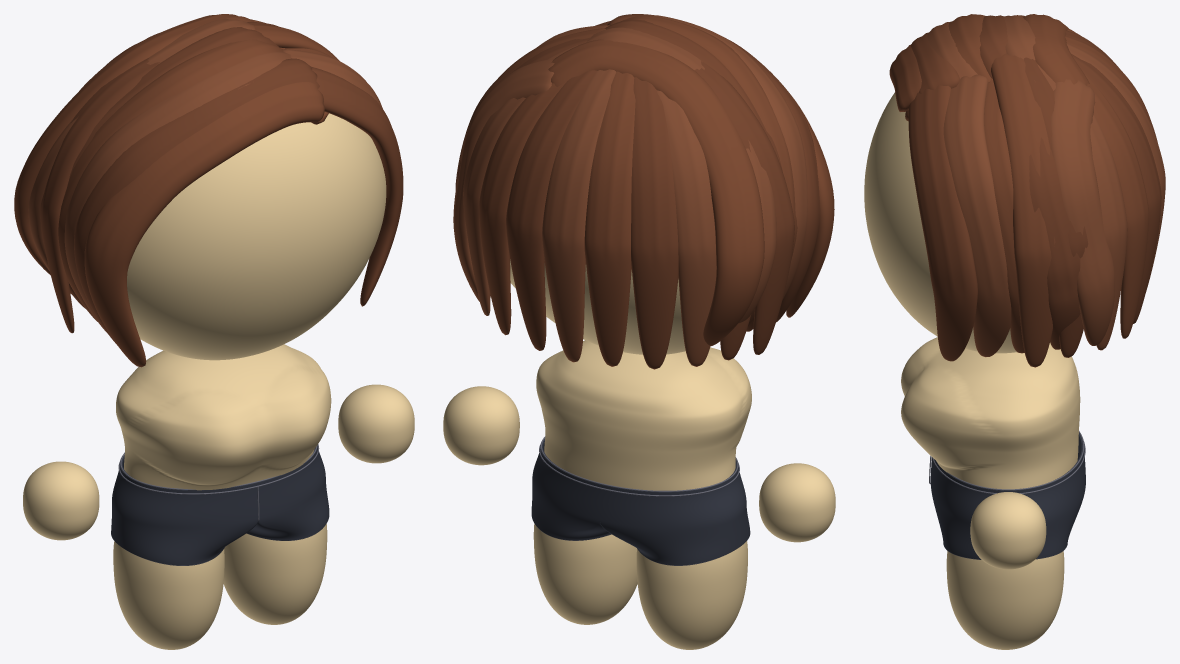
Rendered from Feminine-base.glb.
The picture shows the model from 3 angles, left to right: view 1: azimuth 30°, elevation 25°; view 2: azimuth 150°, elevation 25°; view 3: azimuth 270°, elevation 25°; orthographic projection.
Visible parts, largest first — view 1: Skin / soft oval head, Skin / rounded torso, Hair / Bob / side sweep 0, Clothing / fixed shorts, Skin / leg blob -1, Skin / leg blob 1, Hair / Bob / side sweep 1, Hair / Bob / side sweep 2, Hair / Bob / side sweep 7, Hair / Bob / side sweep 3, Hair / Bob / side sweep 22, Hair / Bob / side sweep 6 (+6 smaller); view 2: Skin / rounded torso, Hair / Bob / side sweep 6, Clothing / fixed shorts, Hair / Bob / side sweep 19, Hair / Bob / side sweep 18, Hair / Bob / side sweep 17, Hair / Bob / side sweep 16, Hair / Bob / side sweep 20, Skin / leg blob -1, Skin / leg blob 1, Hair / Bob / side sweep 15, Hair / Bob / side sweep 22 (+14 smaller); view 3: Skin / rounded torso, Hair / Bob / side sweep 7, Skin / soft oval head, Hair / Bob / side sweep 8, Hair / Bob / side sweep 12, Hair / Bob / side sweep 11, Skin / leg blob 1, Clothing / fixed shorts, Hair / Bob / side sweep 15, Hair / Bob / side sweep 10, Skin / orb hand 1, Hair / Bob / side sweep 9 (+12 smaller).
Boxes of the visible parts, box(x1,y1,x2,y2) form: Skin / soft oval head: box(127, 113, 386, 360); Skin / rounded torso: box(116, 344, 331, 490); Hair / Bob / side sweep 0: box(84, 82, 328, 367); Clothing / fixed shorts: box(111, 444, 329, 565); Skin / leg blob -1: box(113, 541, 224, 649); Skin / leg blob 1: box(223, 524, 327, 624); Hair / Bob / side sweep 1: box(74, 58, 319, 345); Hair / Bob / side sweep 2: box(64, 51, 291, 332); Hair / Bob / side sweep 7: box(311, 67, 403, 306); Hair / Bob / side sweep 3: box(58, 39, 282, 321); Hair / Bob / side sweep 22: box(40, 58, 160, 333); Hair / Bob / side sweep 6: box(14, 14, 254, 275); Skin / rounded torso: box(536, 340, 751, 490); Hair / Bob / side sweep 6: box(548, 39, 764, 346); Clothing / fixed shorts: box(531, 439, 750, 565); Hair / Bob / side sweep 19: box(631, 77, 678, 369); Hair / Bob / side sweep 18: box(584, 71, 635, 366); Hair / Bob / side sweep 17: box(542, 69, 615, 362); Hair / Bob / side sweep 16: box(506, 70, 596, 350); Hair / Bob / side sweep 20: box(657, 90, 716, 366); Skin / leg blob -1: box(636, 541, 747, 649); Skin / leg blob 1: box(533, 524, 637, 624); Hair / Bob / side sweep 15: box(479, 82, 566, 335); Hair / Bob / side sweep 22: box(694, 61, 794, 354); Skin / rounded torso: box(901, 337, 1080, 489); Hair / Bob / side sweep 7: box(908, 85, 977, 361); Skin / soft oval head: box(864, 92, 1016, 353); Hair / Bob / side sweep 8: box(943, 74, 1011, 357); Hair / Bob / side sweep 12: box(991, 53, 1055, 367); Hair / Bob / side sweep 11: box(1050, 79, 1114, 345); Skin / leg blob 1: box(946, 551, 1064, 649); Clothing / fixed shorts: box(930, 433, 1085, 559); Hair / Bob / side sweep 15: box(1085, 75, 1148, 338); Hair / Bob / side sweep 10: box(1029, 137, 1080, 349); Skin / orb hand 1: box(970, 492, 1046, 569); Hair / Bob / side sweep 9: box(984, 78, 1024, 353).
Size of the model in its own units: 1.23 by 1.86 by 0.8578.
